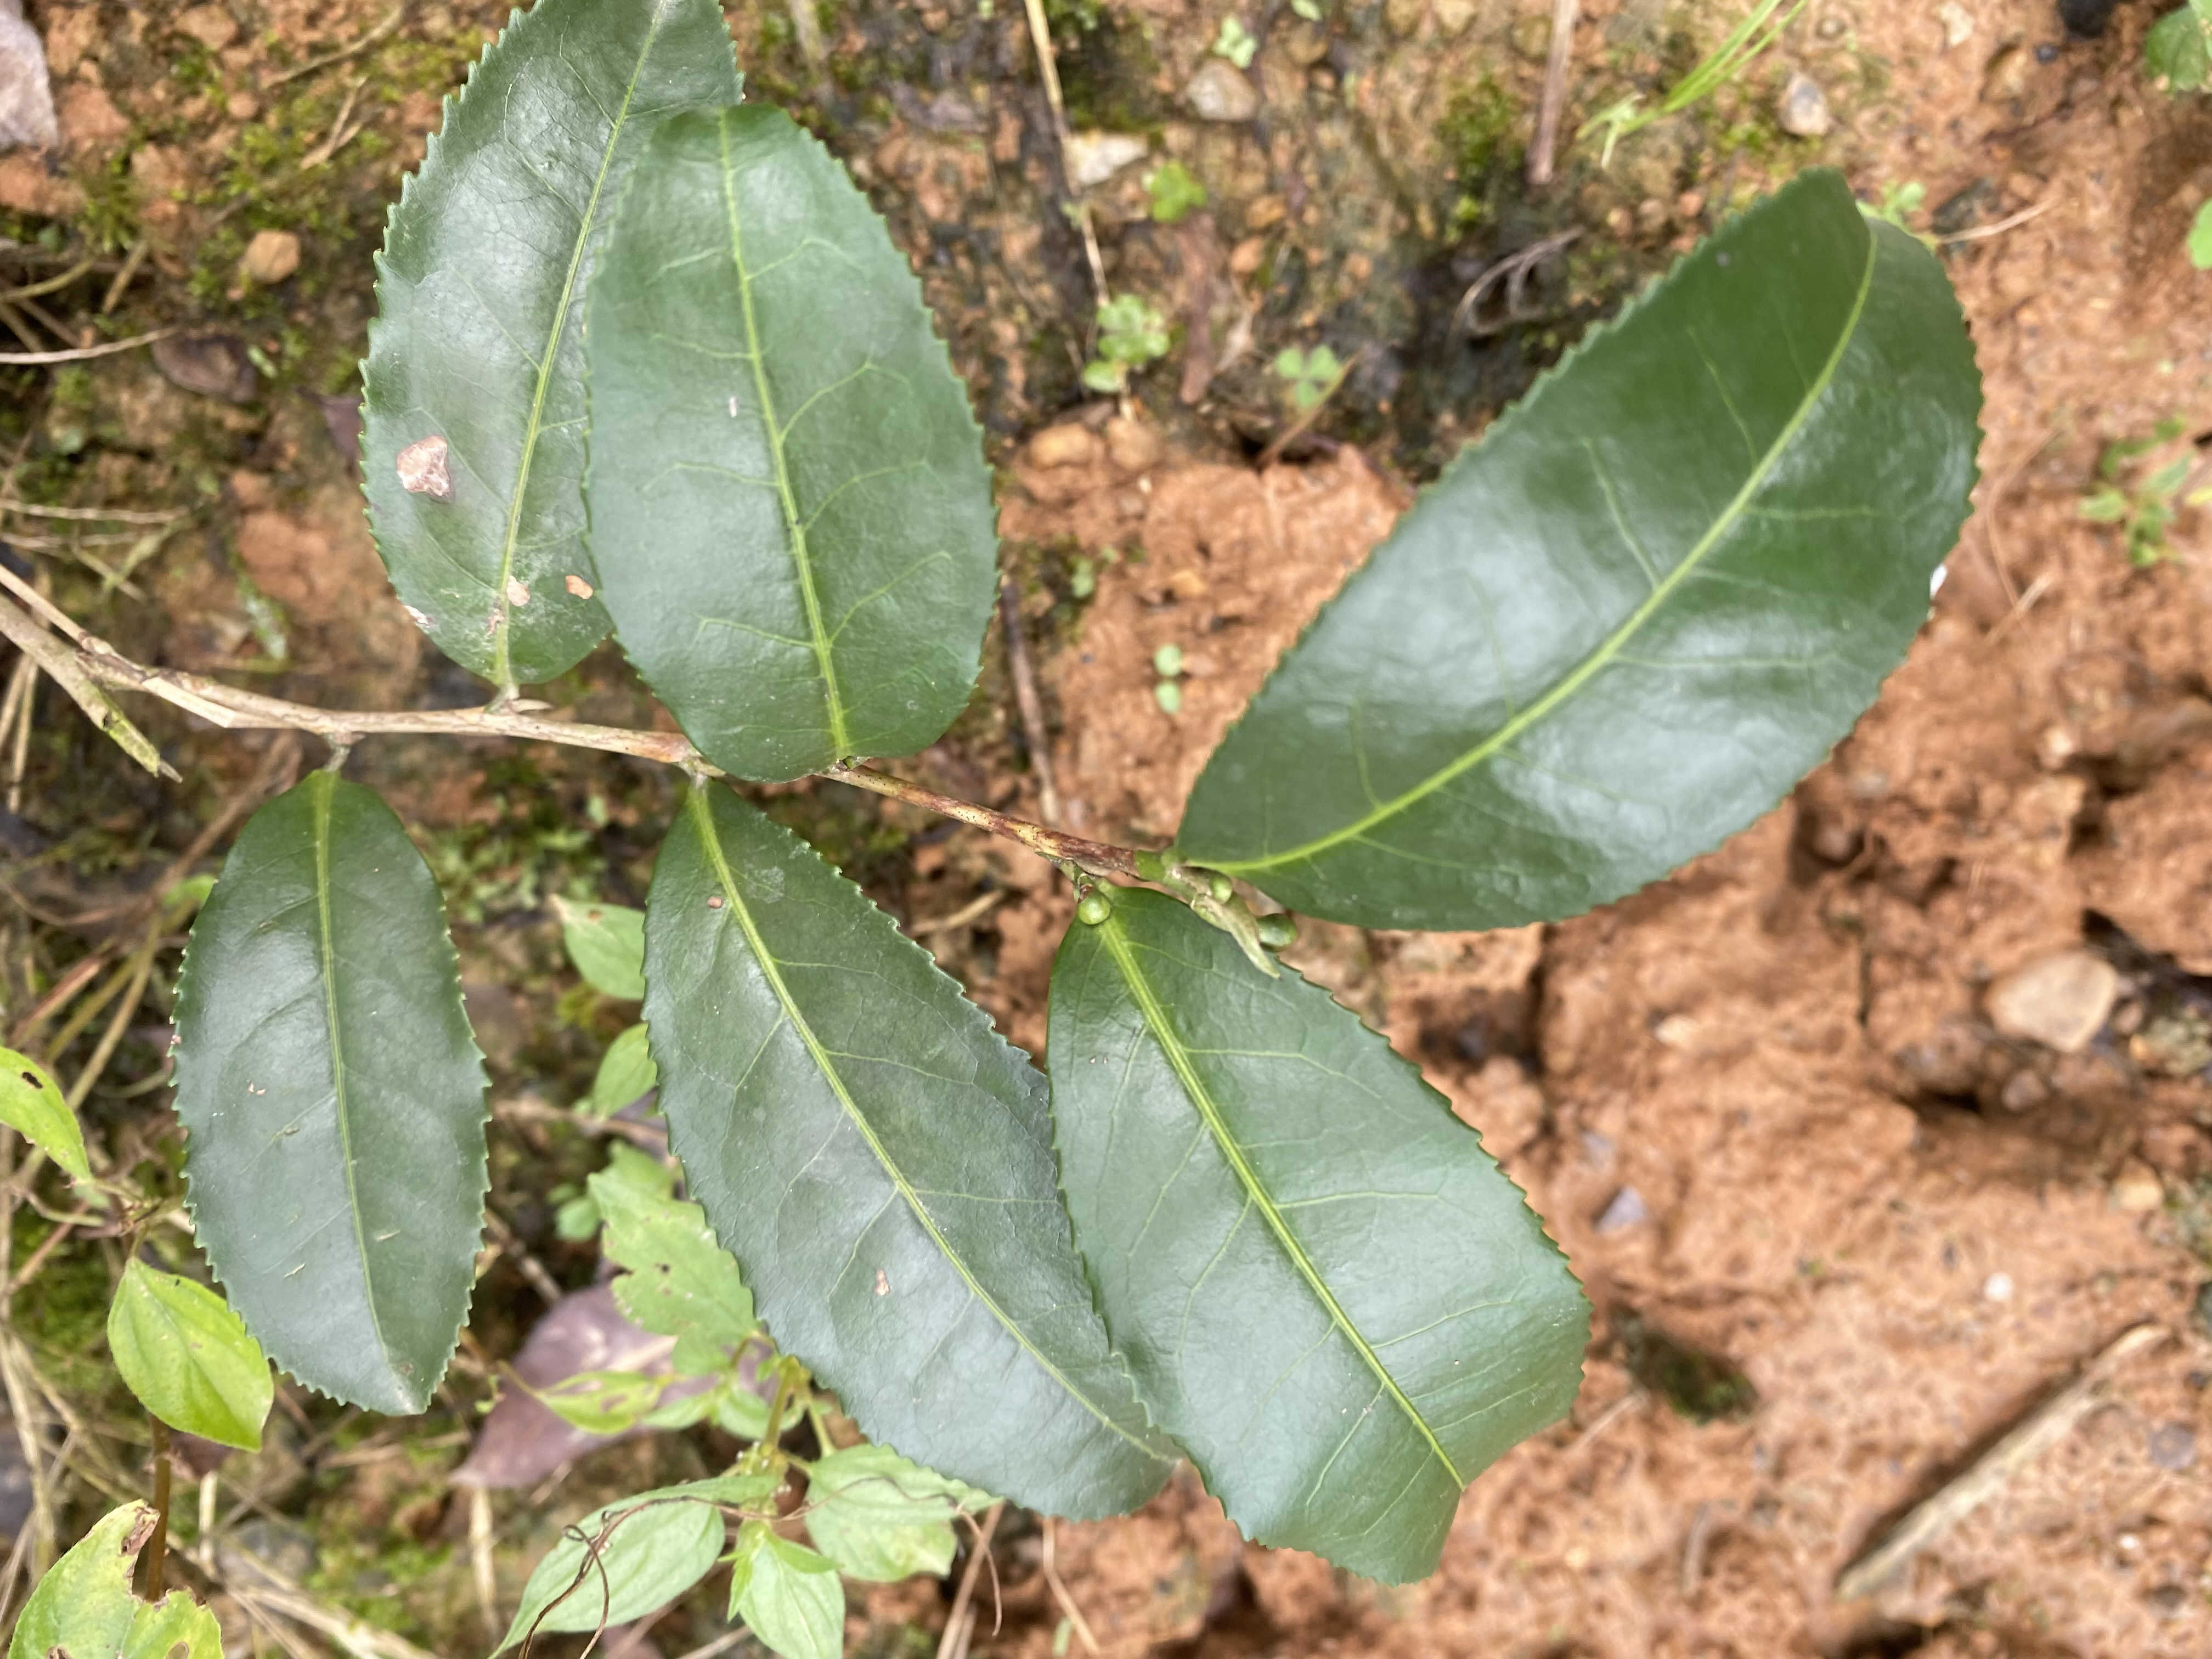healthy: (1169, 166, 1986, 934), (1049, 884, 1597, 1584), (578, 103, 1003, 784)
tanju_low: (634, 781, 1181, 1516), (355, 7, 751, 695)
